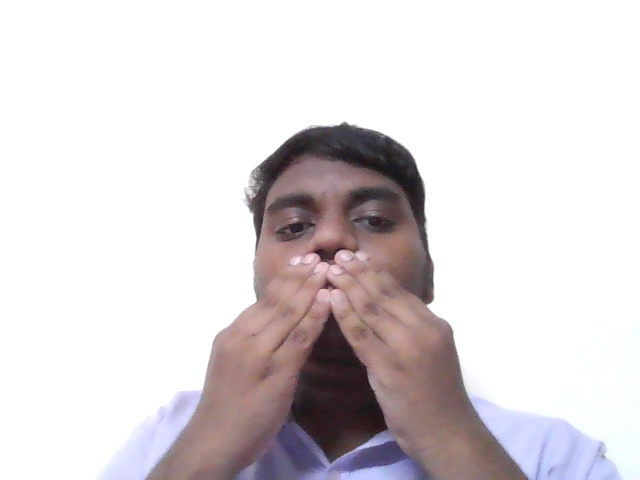Thank you: (159, 247, 491, 440)
